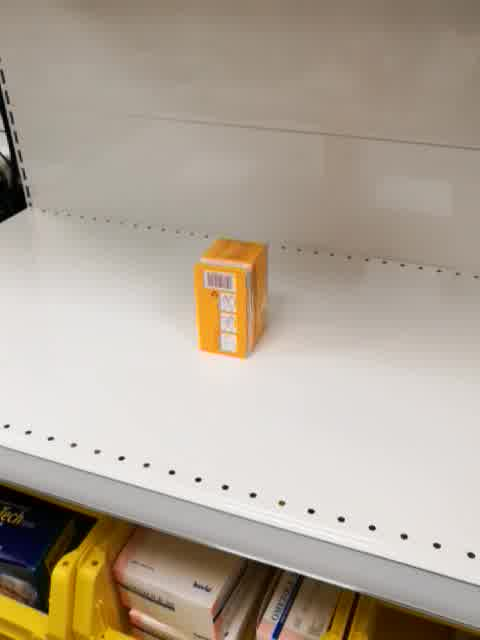jasminetea: (193, 239, 271, 360)
